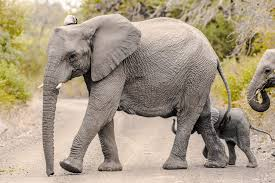elephant: (39, 16, 236, 177), (181, 99, 262, 172), (246, 44, 275, 111)
